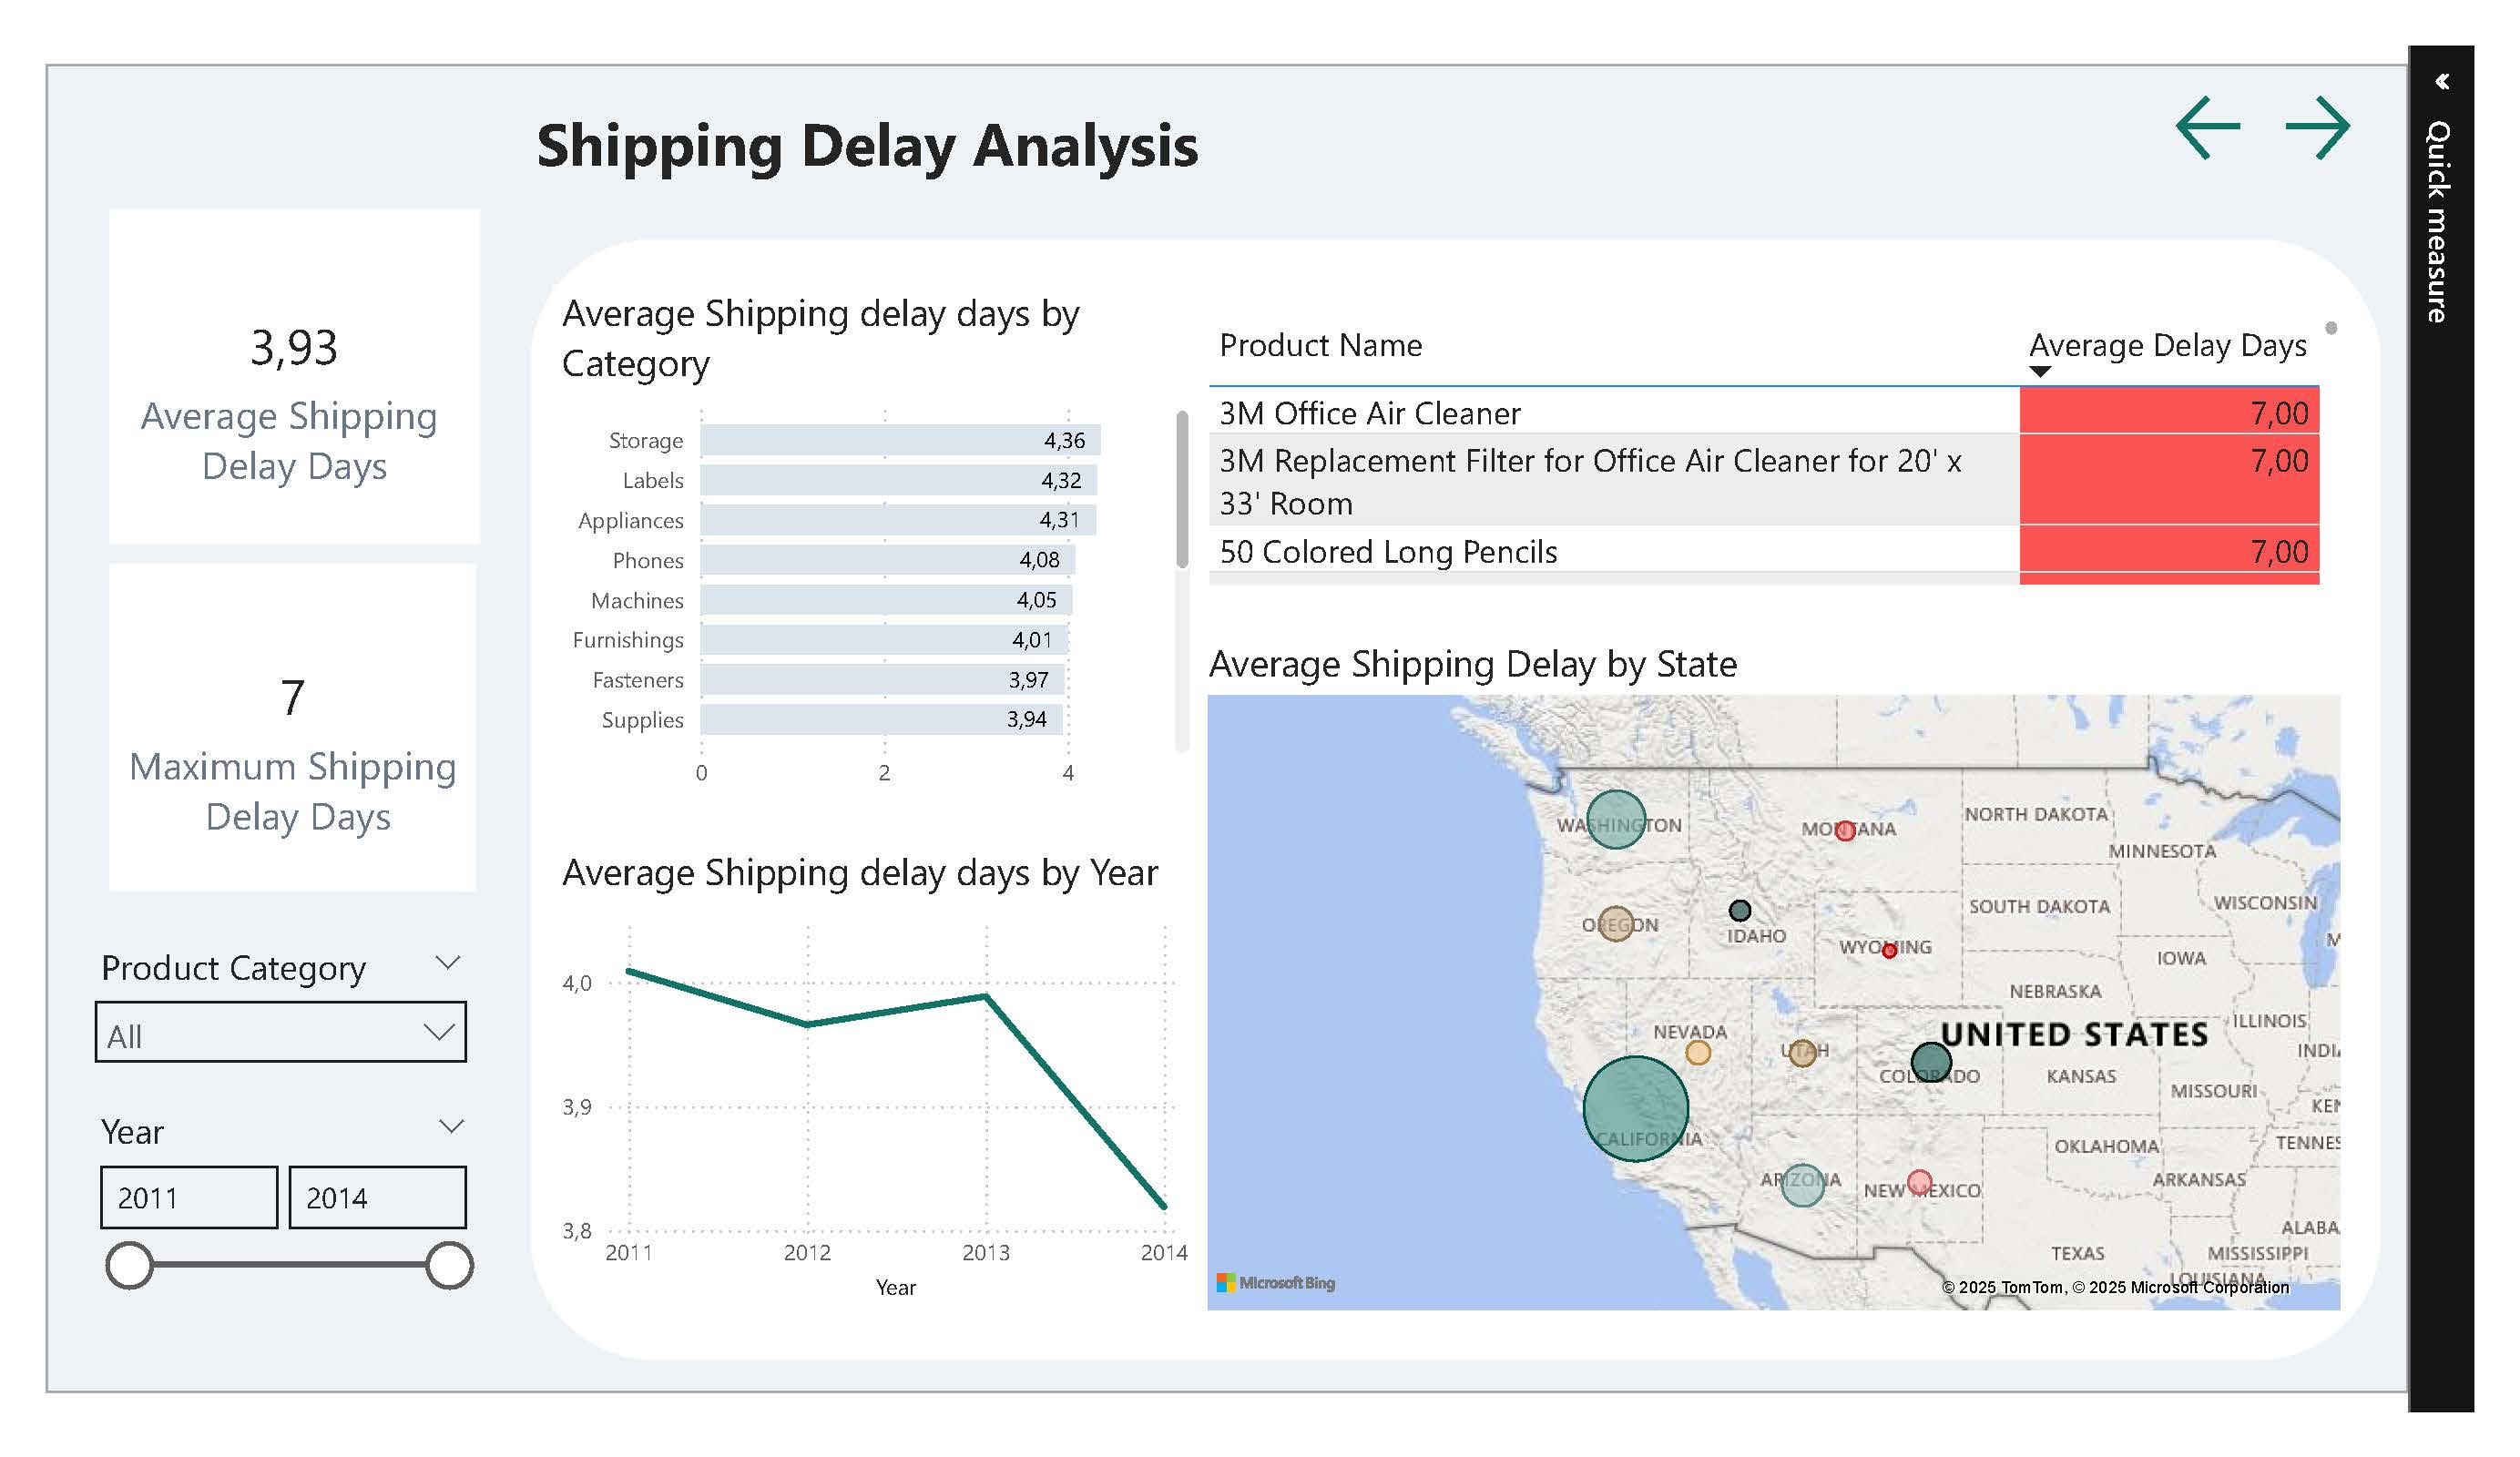

Layout of this report page (visuals, bound fields, positions):
{"tool":"powerbi","page":{"name":"Shipping delay","canvas":[1280,720],"ordinal":2},"visuals":[{"type":"shape","box":[0,0,1279.8,720],"z":0},{"type":"shape","box":[263.3,95,1001.7,606.7],"z":1000},{"type":"map","title":"Average Shipping Delay by State","fields":{"Category":["Sales.Location State"],"Series":["Sales.Avg Shipping delay State"],"Size":["CountNonNull(Sales.Order ID)"]},"box":[625,310,623.3,370],"z":2000},{"type":"card","fields":{"Values":["Avg(Sales.Shipping delay)"]},"box":[34.7,78.8,200.2,181.3],"z":3000},{"type":"lineChart","title":"Average Shipping delay days over Time","fields":{"Category":["Sales.Order Date.Variation.Date Hierarchy.Year","Sales.Order Date.Variation.Date Hierarchy.Quarter","Sales.Order Date.Variation.Date Hierarchy.Month","Sales.Order Date.Variation.Date Hierarchy.Day"],"Y":["Avg(Sales.Shipping delay)"]},"box":[275,423.3,349,252],"z":4000},{"type":"clusteredBarChart","fields":{"Category":["Product.Category"],"Y":["Avg(Sales.Shipping delay)"]},"box":[274.8,115.4,350.7,282.4],"z":5000},{"type":"actionButton","box":[1208.3,11.7,56.7,45],"z":6000},{"type":"textbox","box":[261.5,15.4,415.3,63.2],"z":7000},{"type":"tableEx","fields":{"Values":["Product.Product Name","Avg(Sales.Shipping delay)"]},"box":[625.2,133,622.3,177.4],"z":8000},{"type":"card","fields":{"Values":["Max(Sales.Shipping delay)"]},"box":[34.7,271.1,198.6,176.6],"z":9000},{"type":"actionButton","box":[1150,11.7,50,45],"z":10000},{"type":"slicer","fields":{"Values":["Product.Category"]},"box":[17.3,471.3,220.7,78.8],"z":11000},{"type":"slicer","fields":{"Values":["Sales.Order Date.Variation.Date Hierarchy.Year"]},"box":[16.7,560,223.3,160],"z":12000}]}

Visuals, with their boxes on the page's 1280x720 design canvas (x1, y1, x2, y2). These are canvas units, not pixel positions in the 2520x1457 screenshot, which may show the page scaled, cropped or inside an application window:
shape: <bbox>0, 0, 1280, 720</bbox>
shape: <bbox>263, 95, 1265, 702</bbox>
"Average Shipping Delay by State" map: <bbox>625, 310, 1248, 680</bbox>
card - Avg(Sales.Shipping delay): <bbox>35, 79, 235, 260</bbox>
"Average Shipping delay days over Time" lineChart: <bbox>275, 423, 624, 675</bbox>
clusteredBarChart - Product.Category x Avg(Sales.Shipping delay): <bbox>275, 115, 626, 398</bbox>
actionButton: <bbox>1208, 12, 1265, 57</bbox>
textbox: <bbox>262, 15, 677, 79</bbox>
tableEx - Product.Product Name x Avg(Sales.Shipping delay): <bbox>625, 133, 1248, 310</bbox>
card - Max(Sales.Shipping delay): <bbox>35, 271, 233, 448</bbox>
actionButton: <bbox>1150, 12, 1200, 57</bbox>
slicer - Product.Category: <bbox>17, 471, 238, 550</bbox>
slicer - Sales.Order Date.Variation.Date Hierarchy.Year: <bbox>17, 560, 240, 720</bbox>
